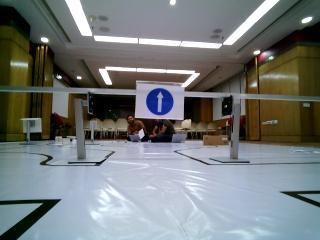straight: (137, 81, 184, 120)
